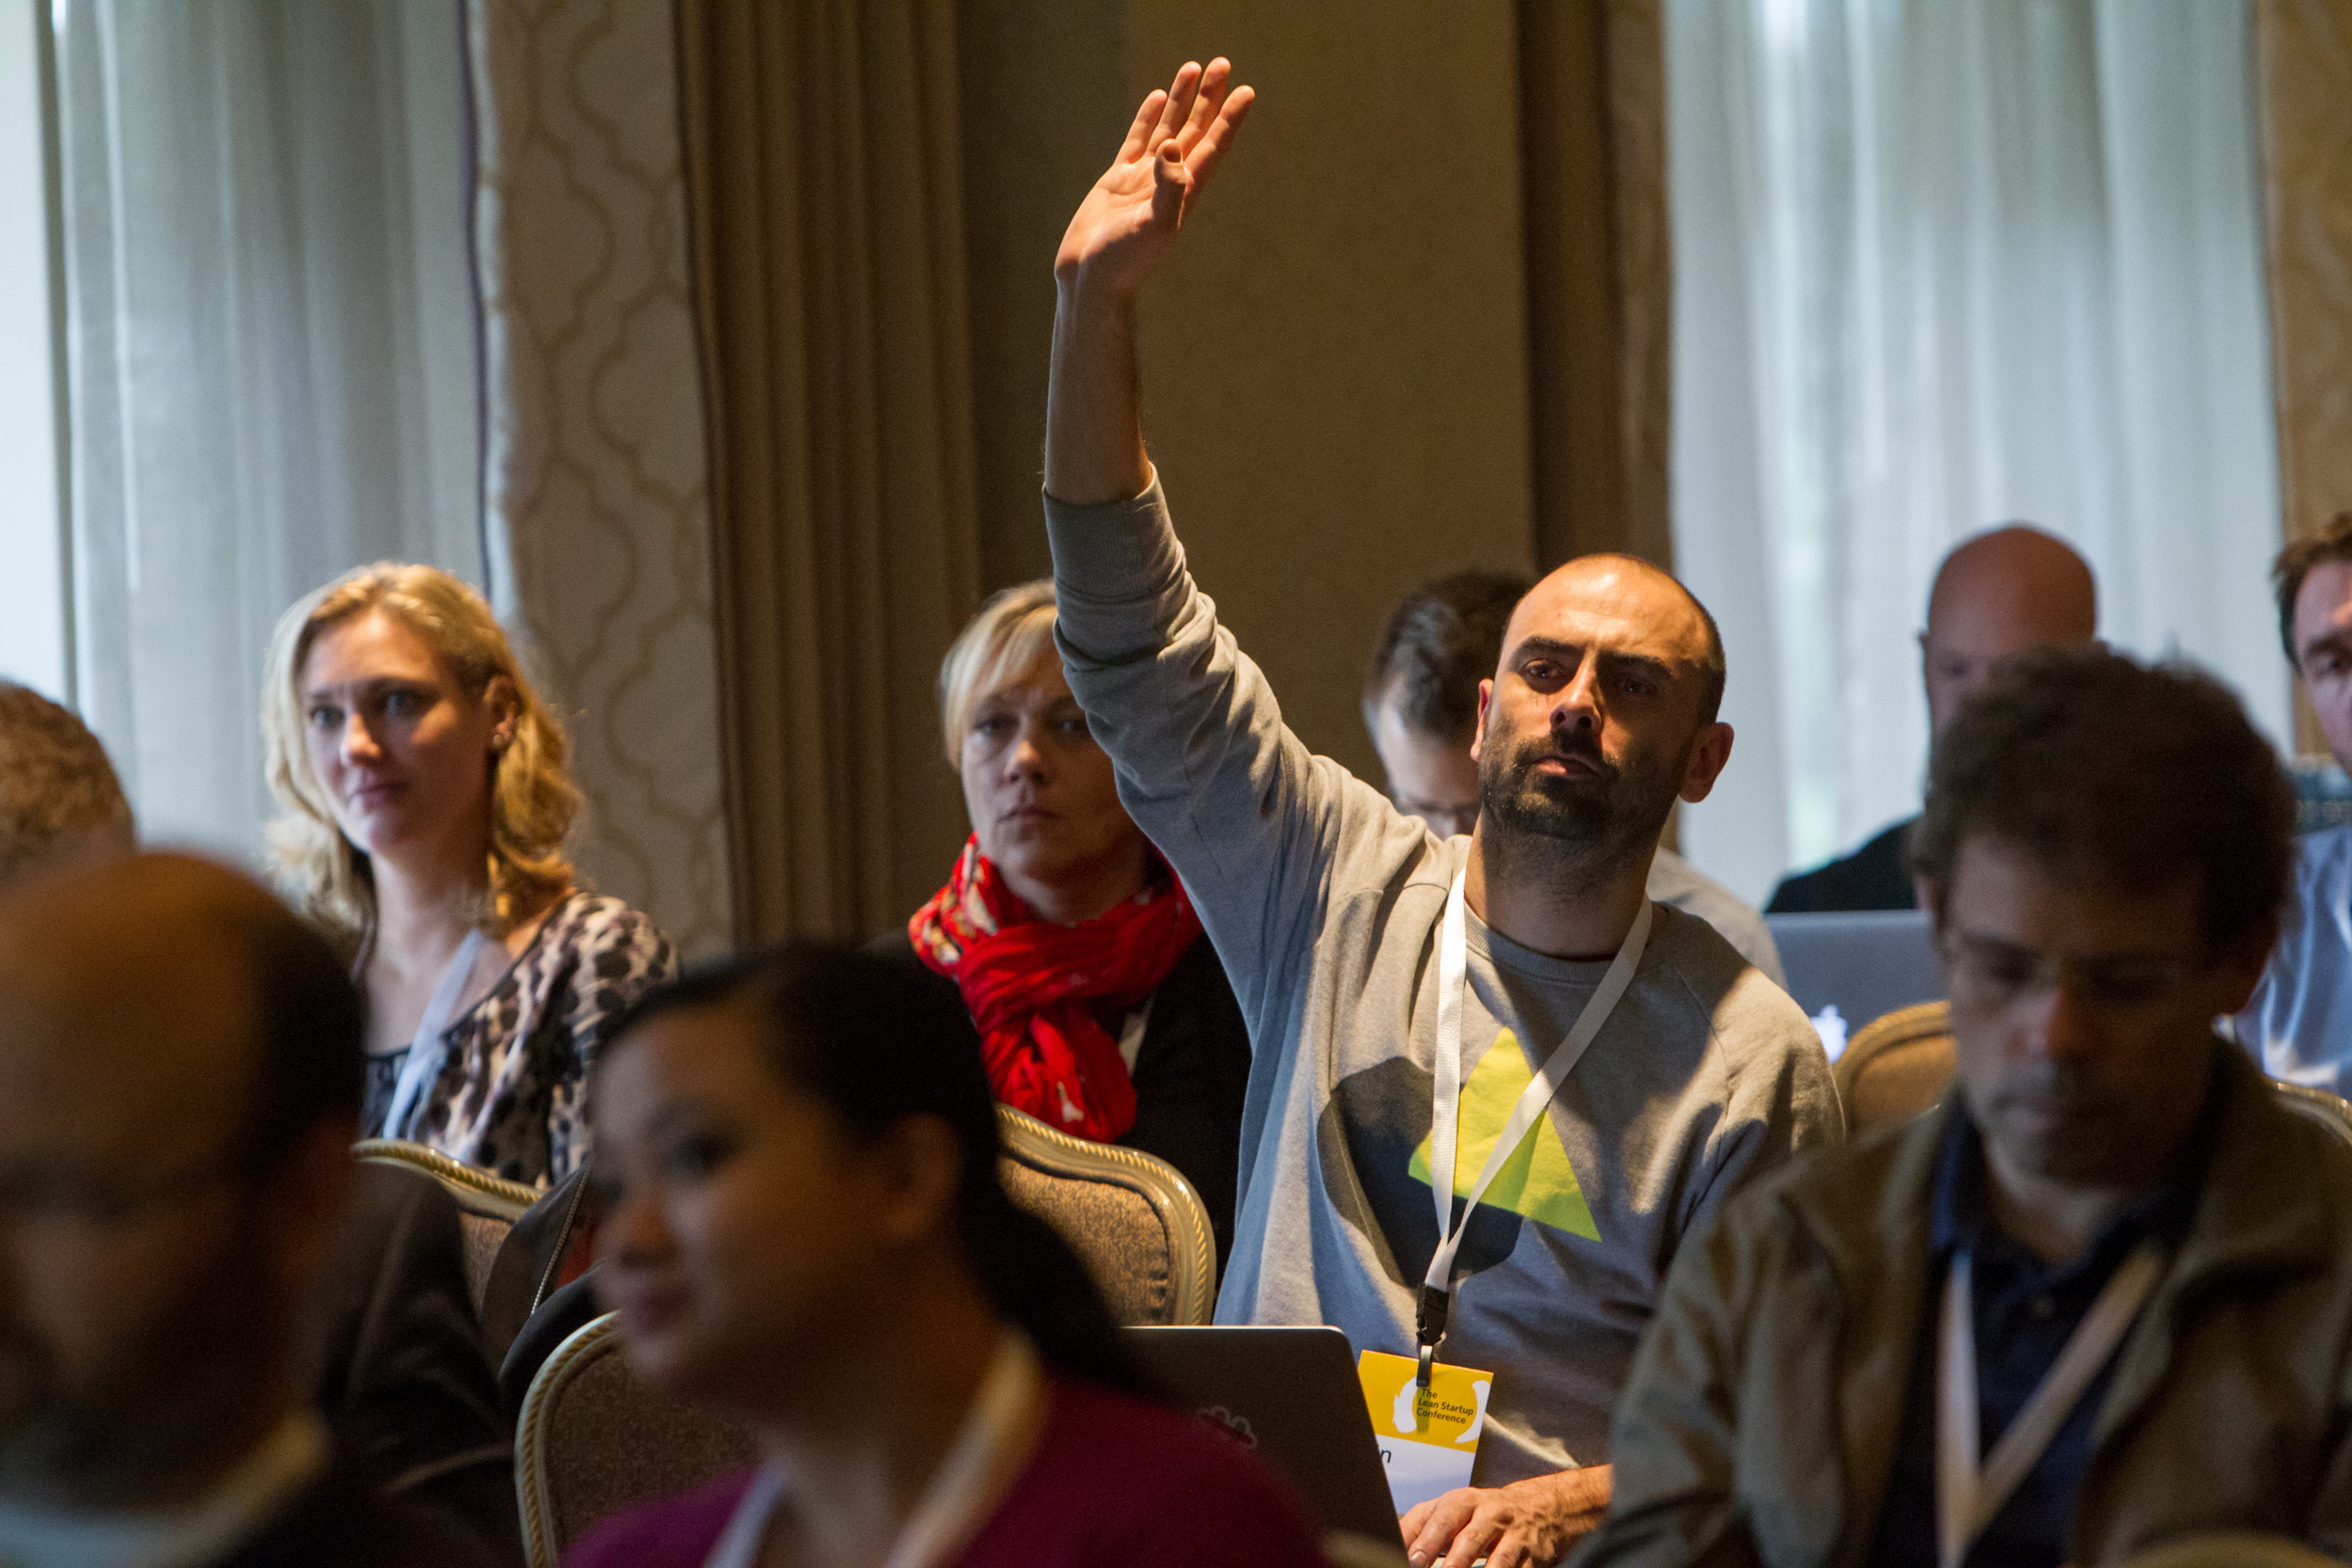hand: (1041, 49, 1260, 296)
